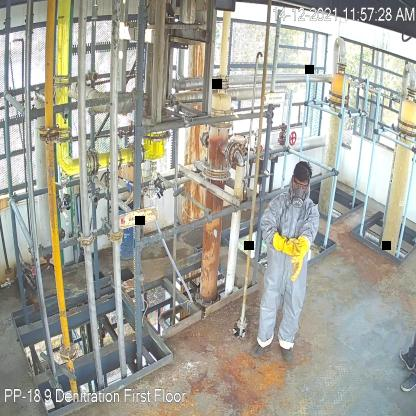goggles: (292, 179, 310, 189)
mask: (290, 186, 306, 208)
